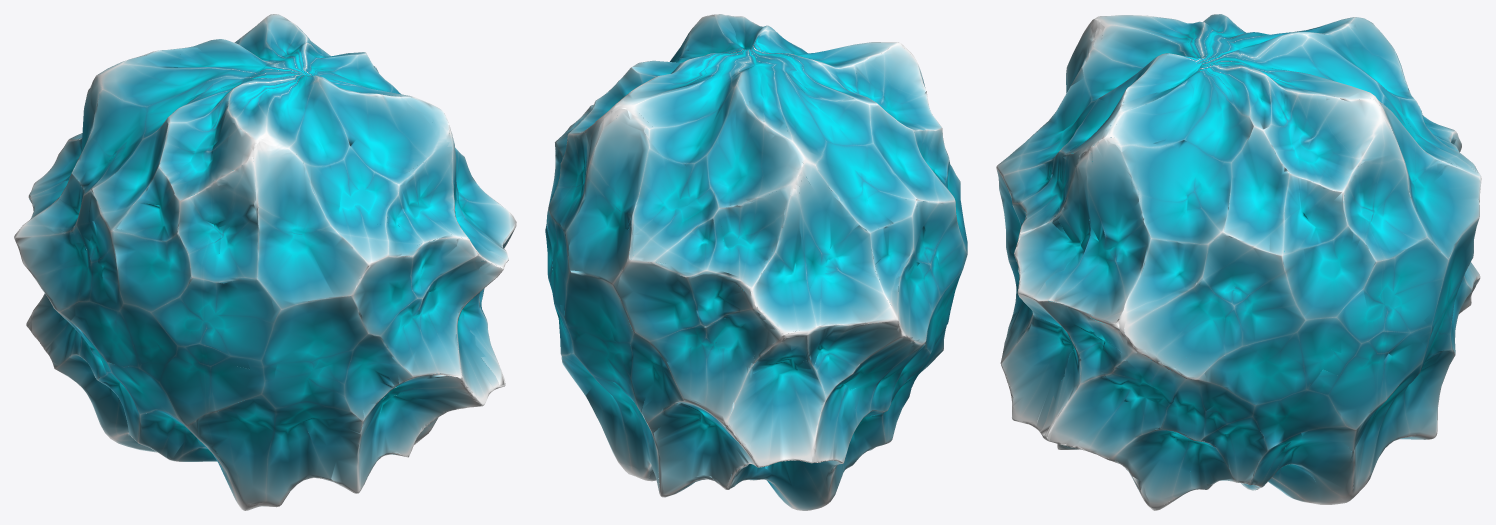
File: IceBullet_model.fbx
The picture shows the model from 3 angles, left to right: view 1: azimuth 30°, elevation 25°; view 2: azimuth 150°, elevation 25°; view 3: azimuth 270°, elevation 25°; orthographic projection. The views are drawn at different scales.
Parts seen in each view (by area): view 1: Sphere_0; view 2: Sphere_0; view 3: Sphere_0.
Boxes of the visible parts, x1=… form: Sphere_0: x1=14, y1=14, x2=516, y2=510; Sphere_0: x1=545, y1=14, x2=967, y2=510; Sphere_0: x1=996, y1=14, x2=1481, y2=510.
Bounding box in the file's own units: 229 × 226 × 227.
